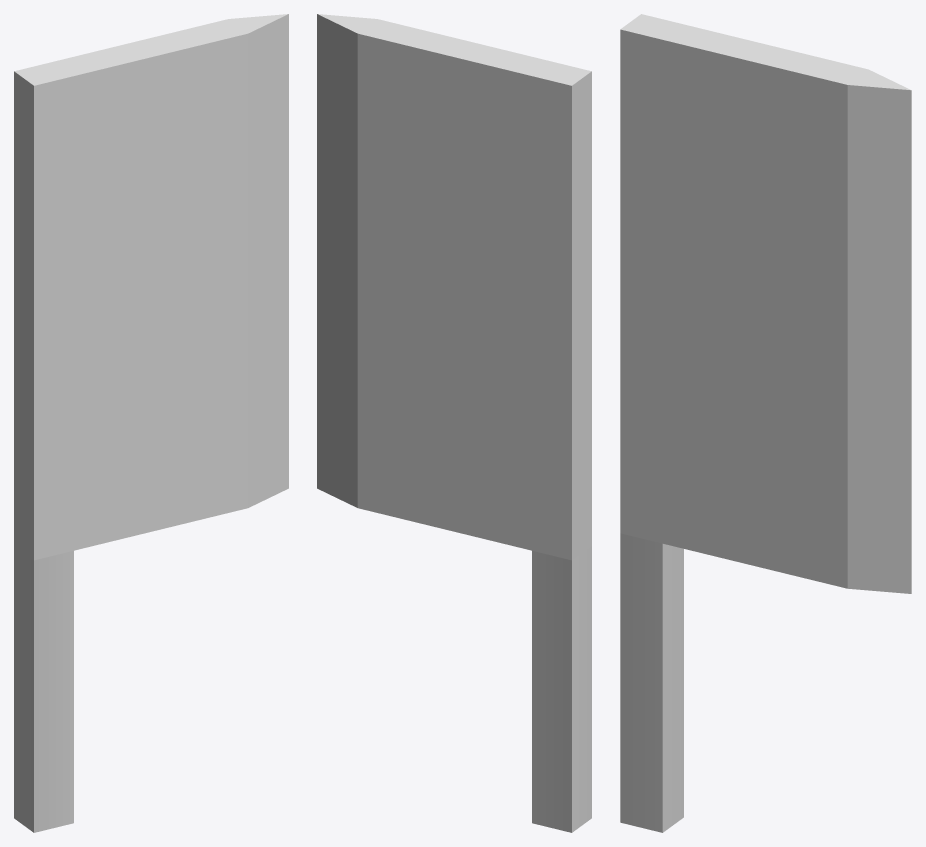
Rendered from knife 6.dae.
3 views of the same model, side by side, from view 1: azimuth 30°, elevation 25°; view 2: azimuth 150°, elevation 25°; view 3: azimuth 330°, elevation 25° (orthographic). The views are drawn at different scales.
Visible parts, largest first — view 1: SketchUp_001; view 2: SketchUp_001; view 3: SketchUp_001.
Part boxes in pixels (x1=…): SketchUp_001: x1=14, y1=14, x2=288, y2=832; SketchUp_001: x1=317, y1=14, x2=591, y2=832; SketchUp_001: x1=620, y1=14, x2=911, y2=832.
Size of the model in its own units: 0.2735 by 0.0356 by 0.7377.
Materials: 1 (1 with a texture image).
